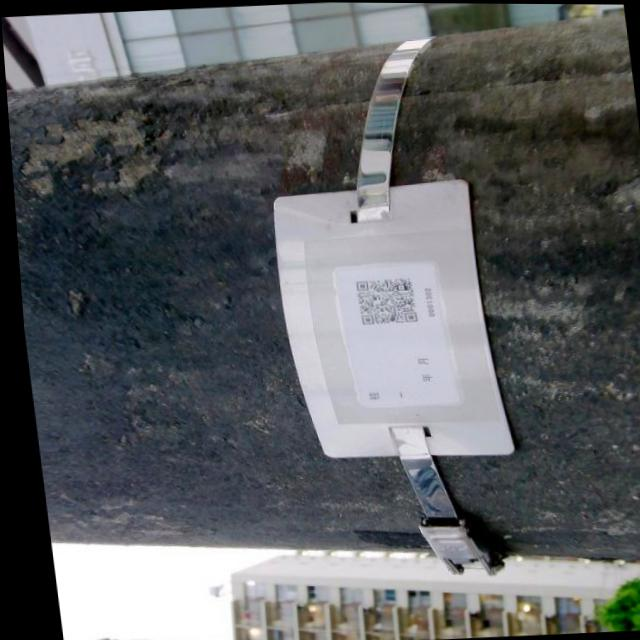qrcode: (353, 277, 414, 324)
